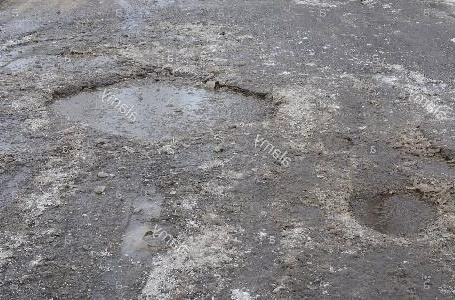pothole: (42, 62, 286, 144), (349, 185, 445, 239), (112, 188, 181, 258)
